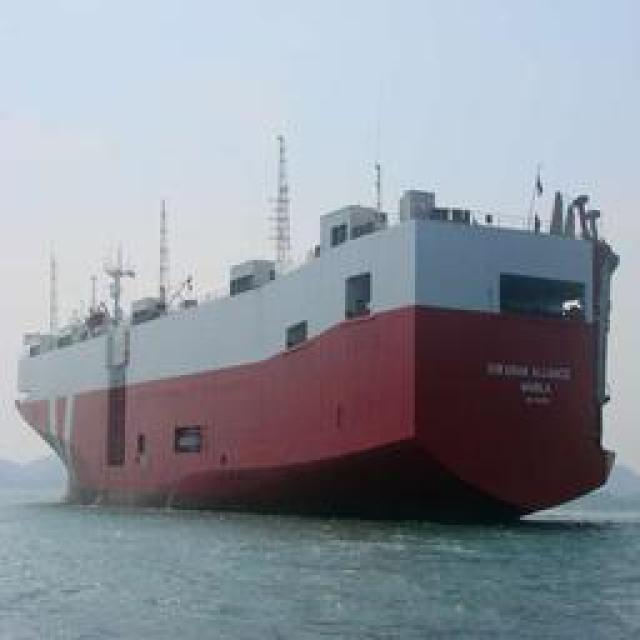CIV_Ship: (16, 156, 604, 516)
